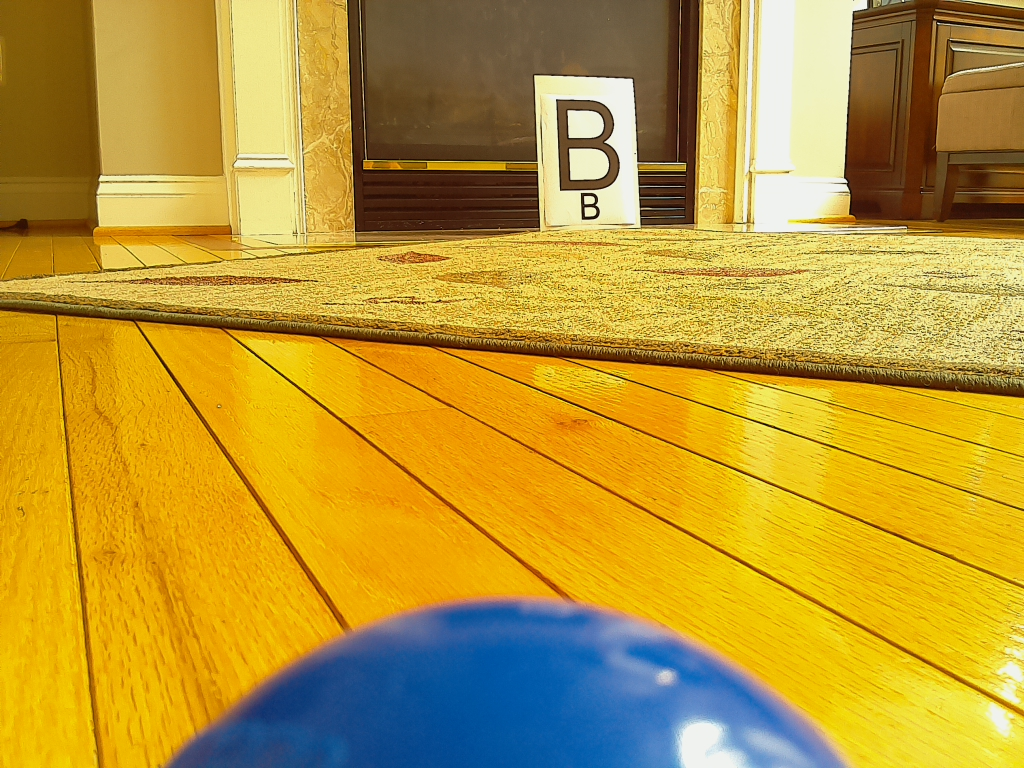letter: (555, 100, 621, 192)
